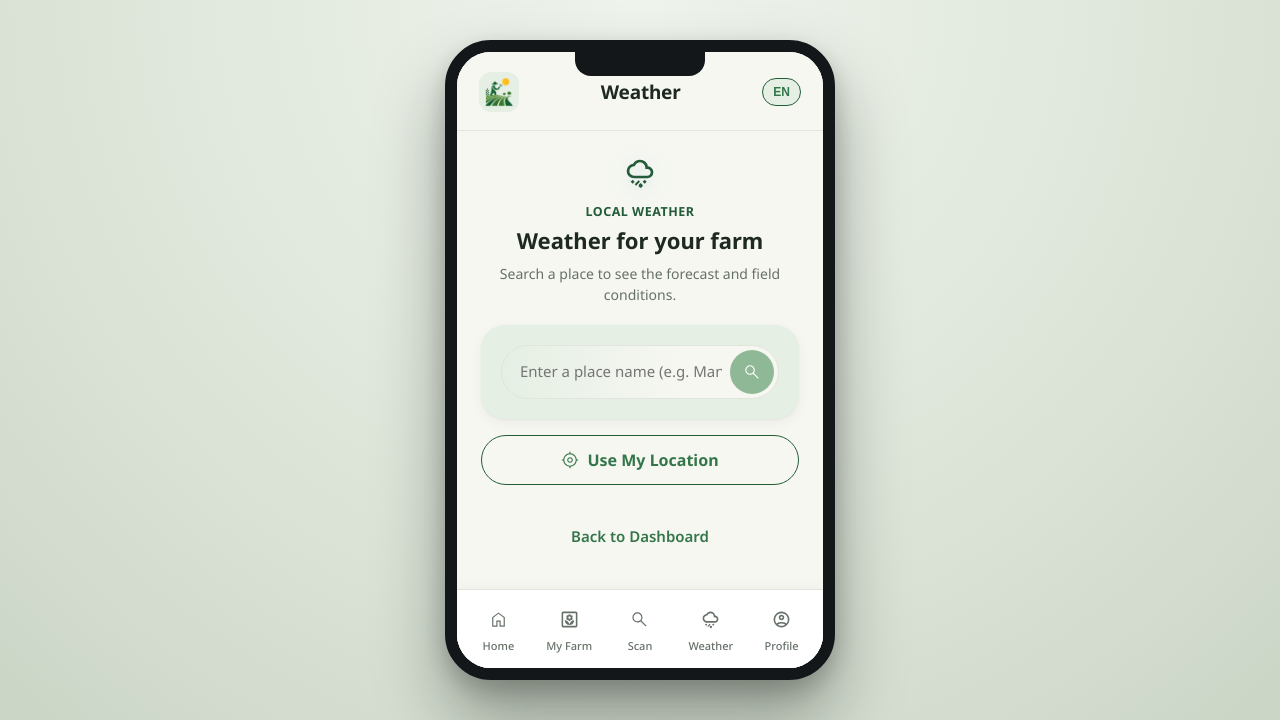
Test case: WeatherPage › shows a fallback message and does not crash on a network failure
In the field with placeholder "Enter a place name (e.g. Mangaluru)": (621, 372) top-left (518, 359), bottom-right (724, 385), type "Mangaluru"
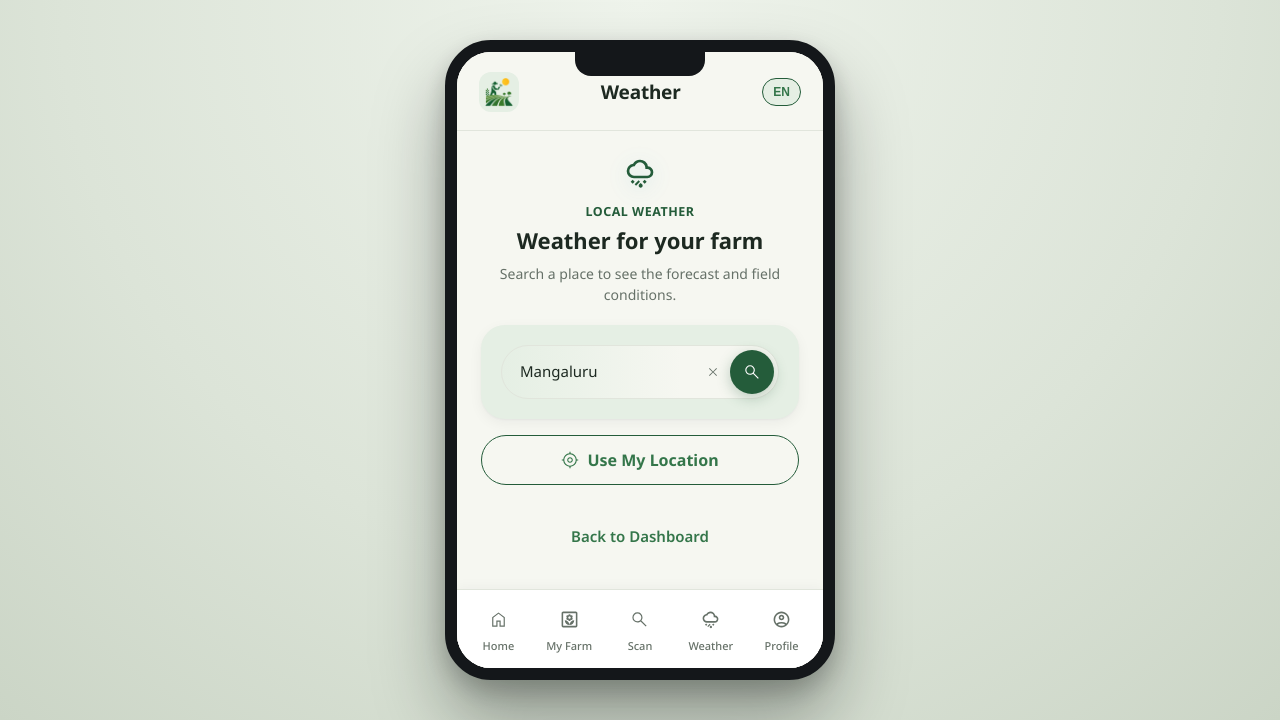
Click the button named "search": (752, 372) top-left (730, 350), bottom-right (774, 394)
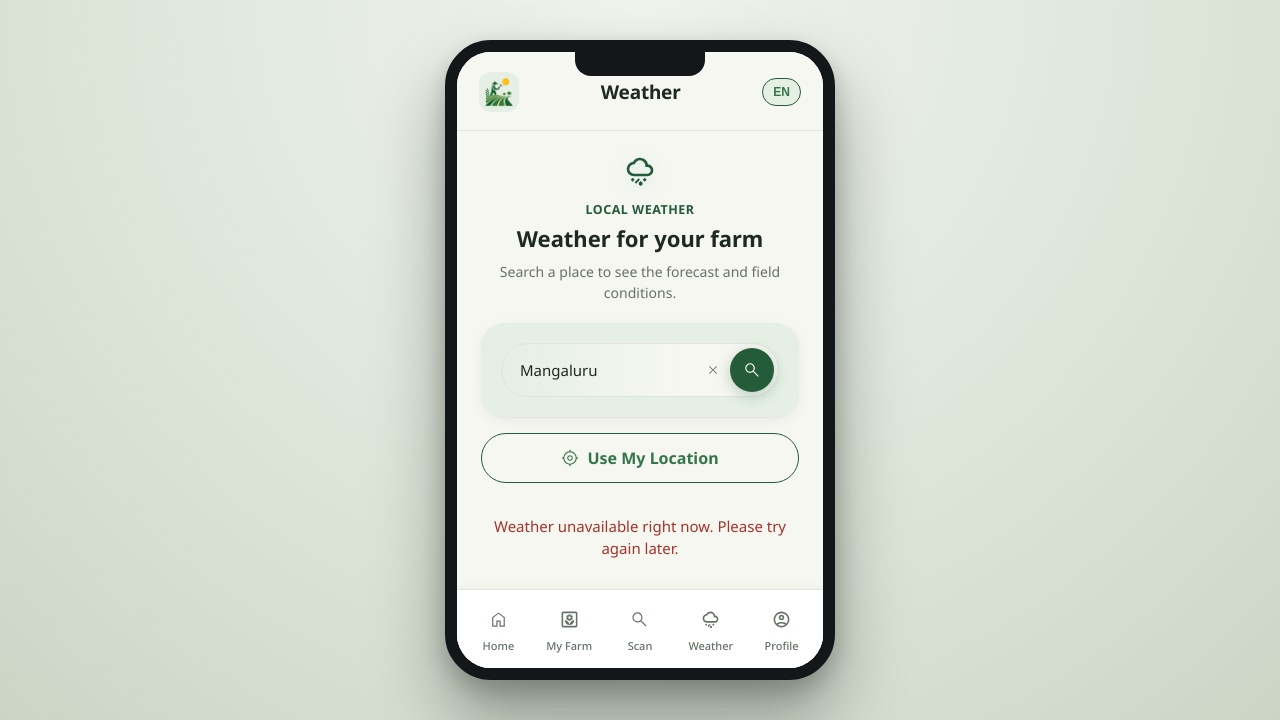
Expected: the message shows "Weather unavailable right now", top-left (494, 516), bottom-right (786, 558)
